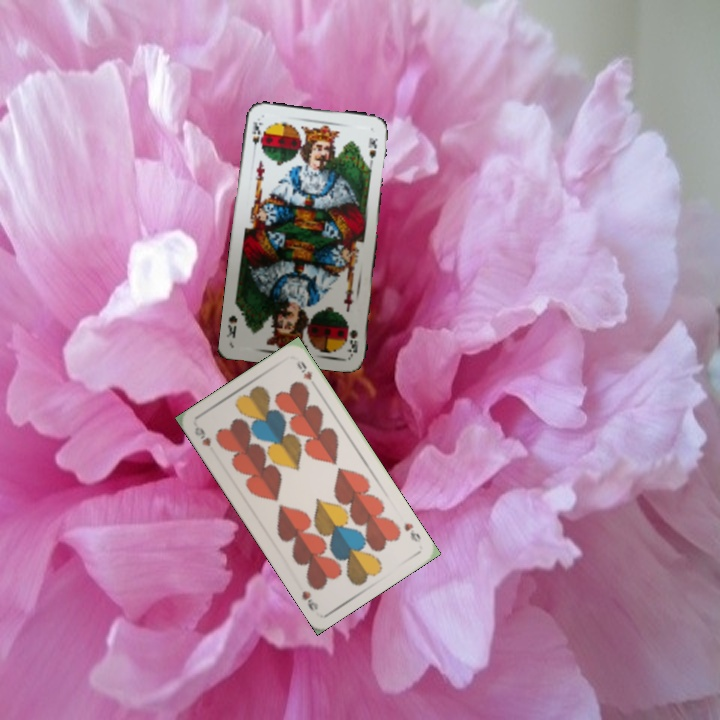H9: (400, 518, 424, 545), (190, 423, 214, 449)
SK: (247, 117, 266, 156), (342, 320, 361, 356)
